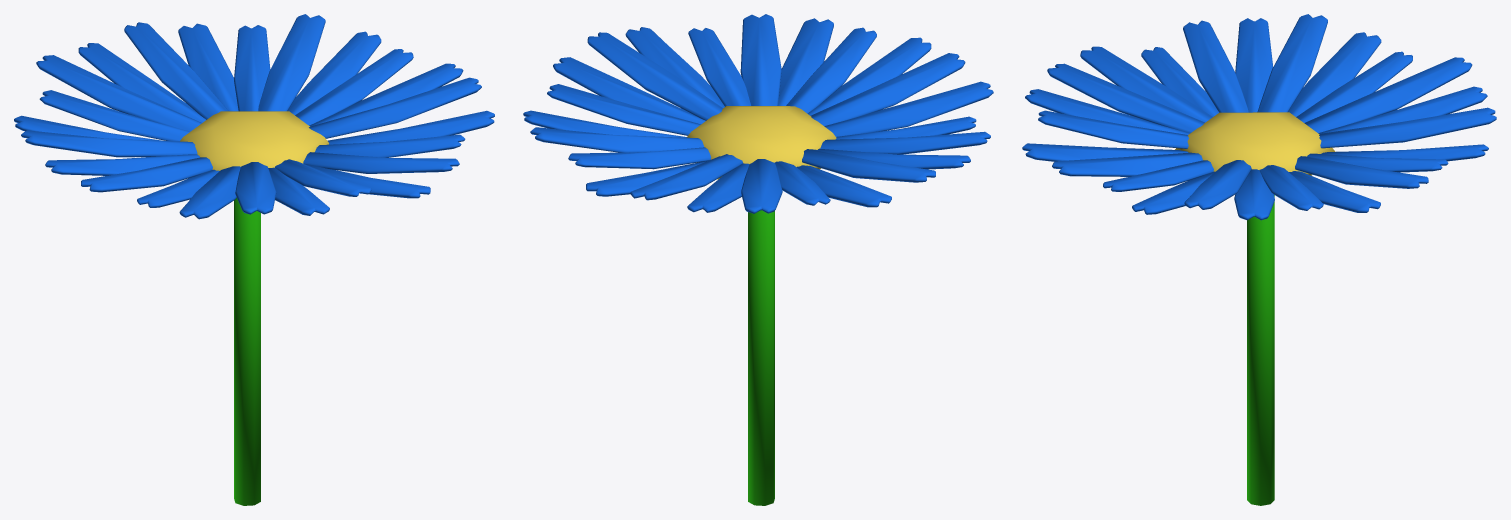
Rendered from BlueFlower.fbx.
3 renders of one model, left to right at view 1: azimuth 30°, elevation 25°; view 2: azimuth 150°, elevation 25°; view 3: azimuth 270°, elevation 25°, orthographic.
Parts seen in each view (by area): view 1: Plane.010; view 2: Plane.010; view 3: Plane.010.
Part boxes in pixels (left/top/right/bottom): Plane.010: left=14, top=14, right=494, bottom=505; Plane.010: left=523, top=14, right=993, bottom=505; Plane.010: left=1022, top=14, right=1496, bottom=505.
Bounding box in the file's own units: 34.66 × 31.72 × 34.83.
